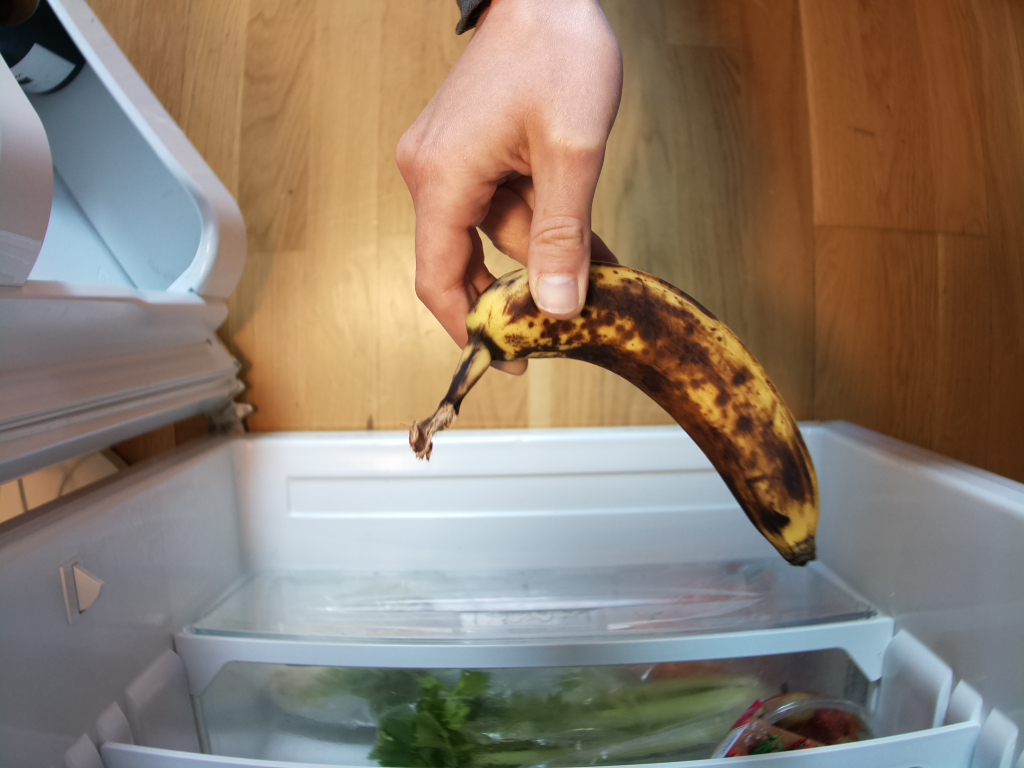banana-overripe: (408, 261, 822, 573)
